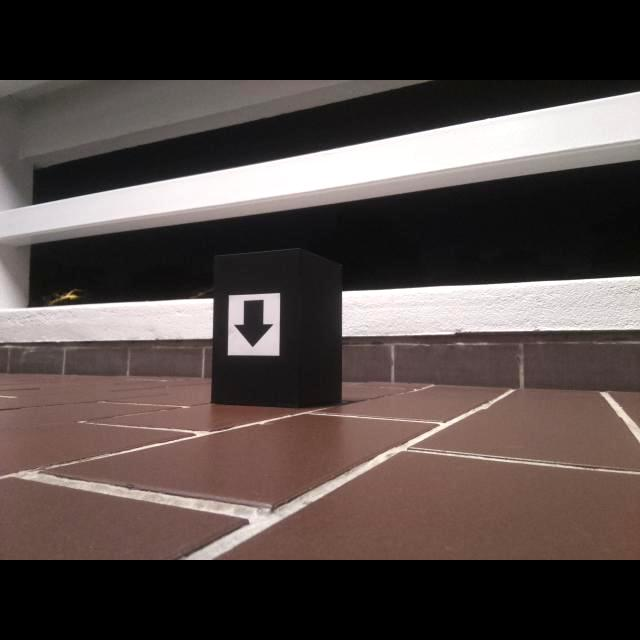DOWN: (232, 299, 275, 349)
